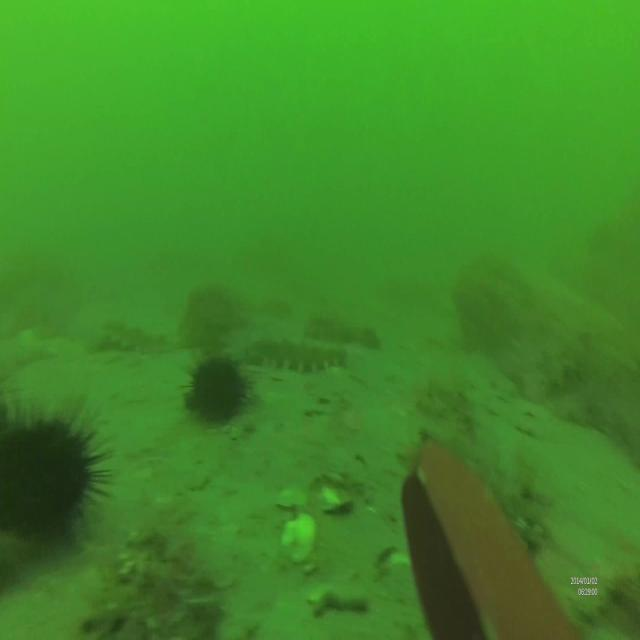echinus: (1, 401, 116, 559), (181, 349, 252, 431)
holothurian: (248, 333, 342, 375)
